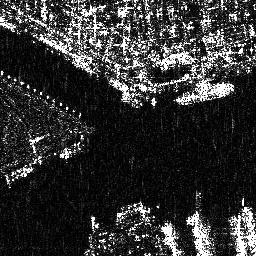ship: (173, 83, 237, 106), (3, 157, 44, 185)
